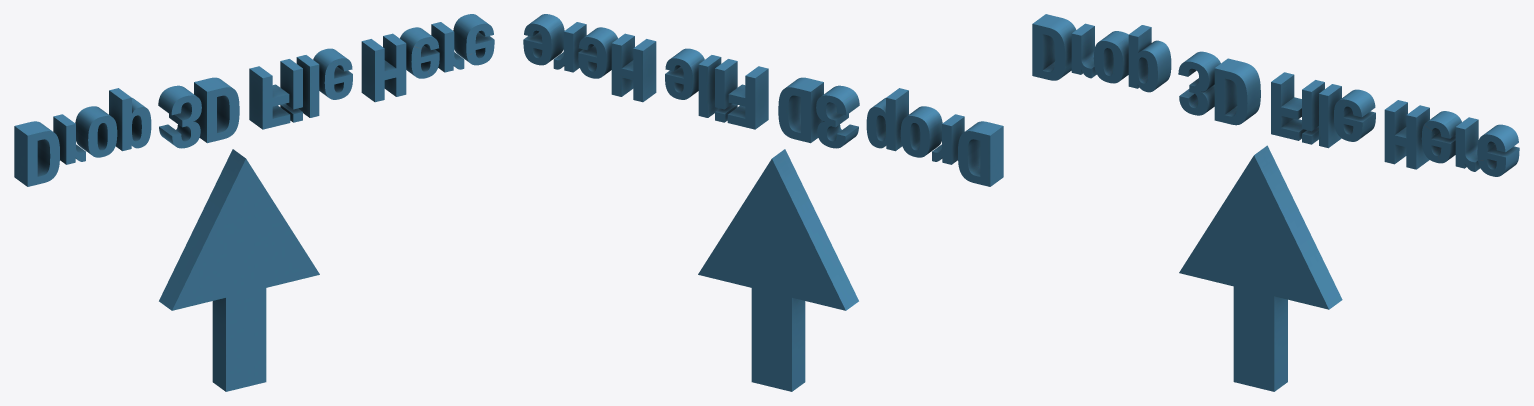
The model's file is drop-here-large.obj.
3 views of the same model, side by side, from view 1: azimuth 30°, elevation 25°; view 2: azimuth 150°, elevation 25°; view 3: azimuth 330°, elevation 25° (orthographic).
Parts seen in each view (by area): view 1: NOName; view 2: NOName; view 3: NOName.
Boxes of the visible parts, x1,y1,x2,y2 form: NOName: (14,14,494,391); NOName: (523,14,1003,391); NOName: (1032,14,1519,391).
Bounding box in the file's own units: 125 × 81.15 × 6.14.
1 material, 1 textured.
